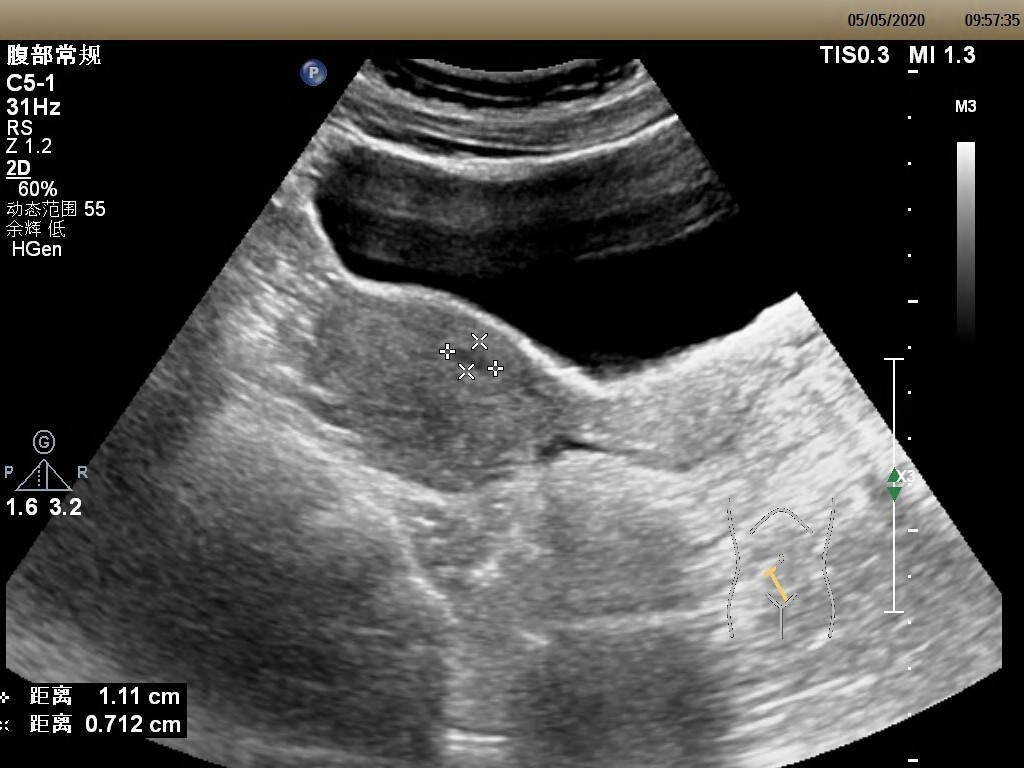肌瘤: (448, 342, 497, 374)
